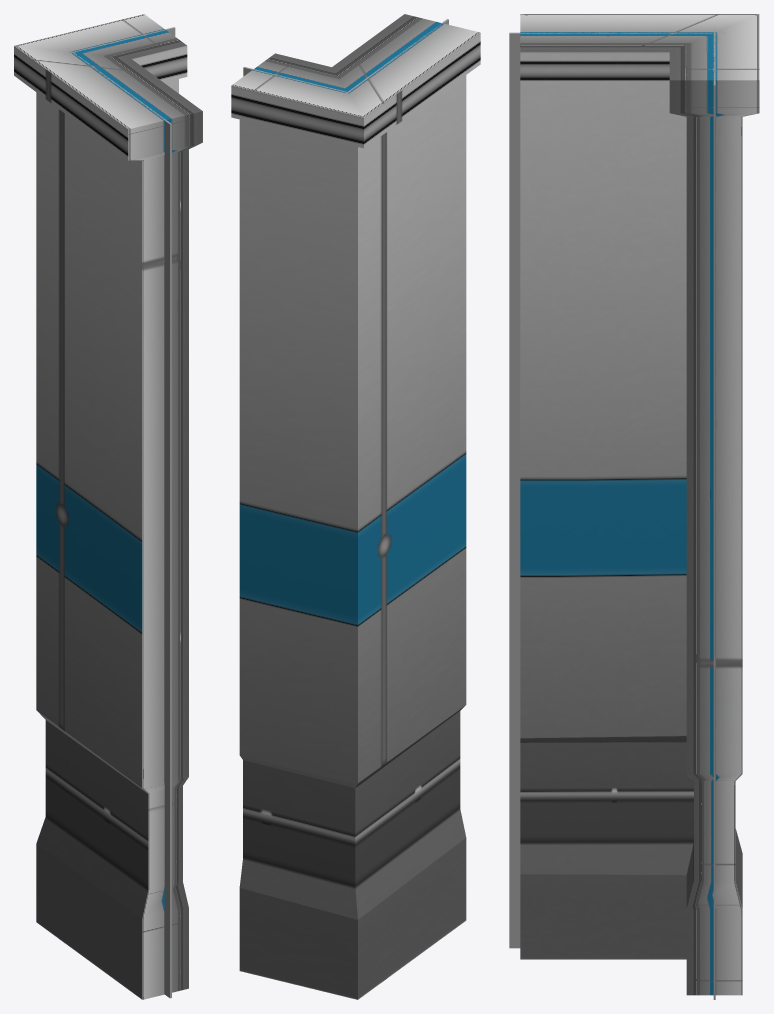
File: CRR_SM_SU_BB.fbx
The picture shows the model from 3 angles, left to right: view 1: azimuth 30°, elevation 25°; view 2: azimuth 150°, elevation 25°; view 3: azimuth 270°, elevation 25°; orthographic projection. The views are drawn at different scales.
Parts seen in each view (by area): view 1: CRR_SM_SU_BB; view 2: CRR_SM_SU_BB; view 3: CRR_SM_SU_BB.
Part boxes in pixels (x1,y1,x2,y2): CRR_SM_SU_BB: (14, 14, 202, 999); CRR_SM_SU_BB: (231, 14, 480, 999); CRR_SM_SU_BB: (509, 14, 759, 999).
Size of the model in its own units: 0.751 by 4.5 by 1.12.
